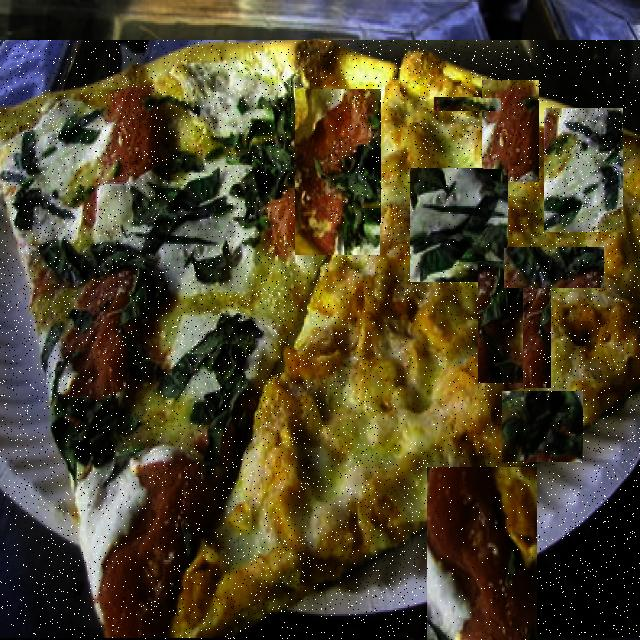Basil: (382, 312, 472, 444), (329, 91, 412, 224), (411, 169, 508, 282), (544, 110, 623, 233), (502, 392, 583, 462), (478, 261, 523, 383), (504, 248, 604, 288), (434, 98, 501, 111)
Pizza: (0, 41, 640, 639)
Tomato: (427, 468, 537, 640), (296, 90, 382, 255), (482, 81, 539, 182), (509, 270, 551, 388)
